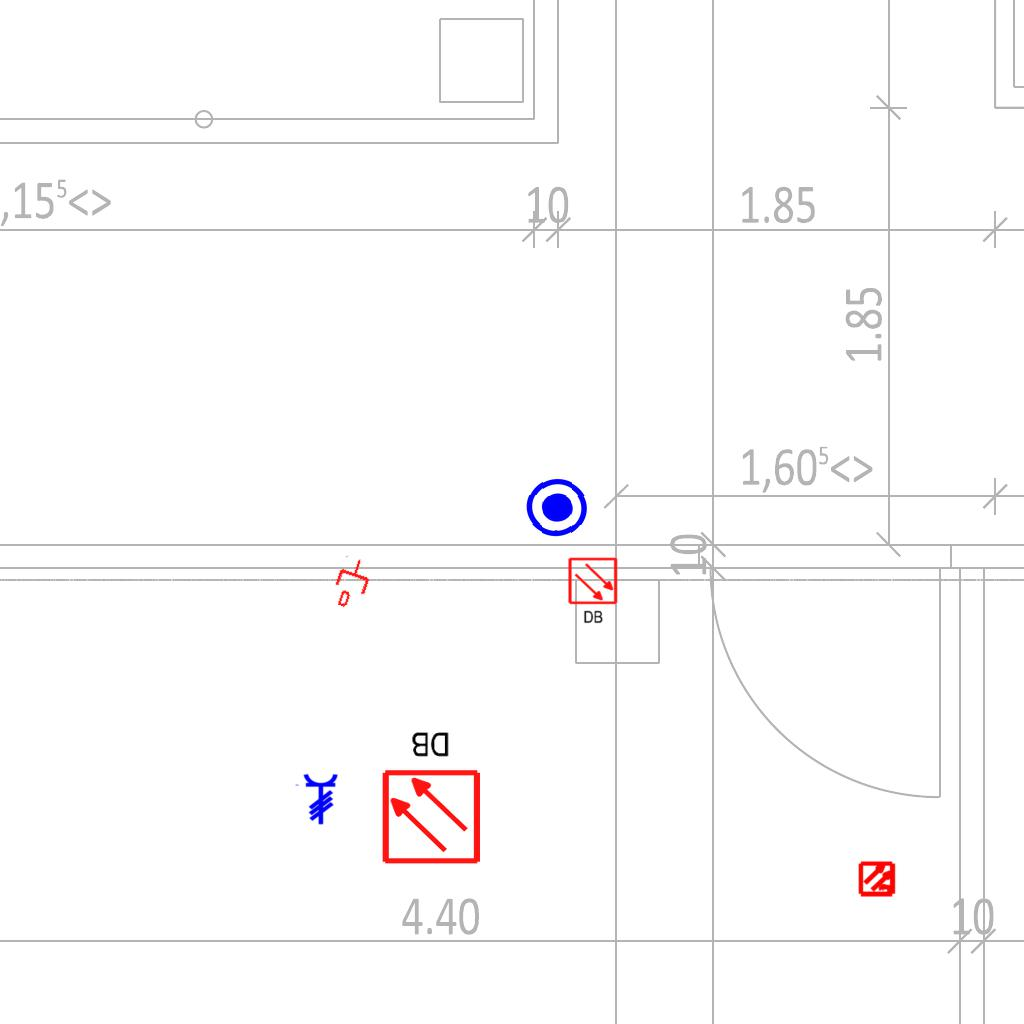CEE_Drehstrom_Steckdose_16_32_A: (294, 773, 339, 825)
DB_Melder_in_Doppelboden_mit_Revisionsoeffnung_mind_40_x_40_cm: (373, 722, 487, 871), (565, 554, 622, 628)
Datenanschluss_einfach: (327, 553, 377, 613)
OT_Multisensormelder_(Kombination_RMO_WMD): (850, 851, 906, 907)
Taster: (522, 475, 592, 545)
